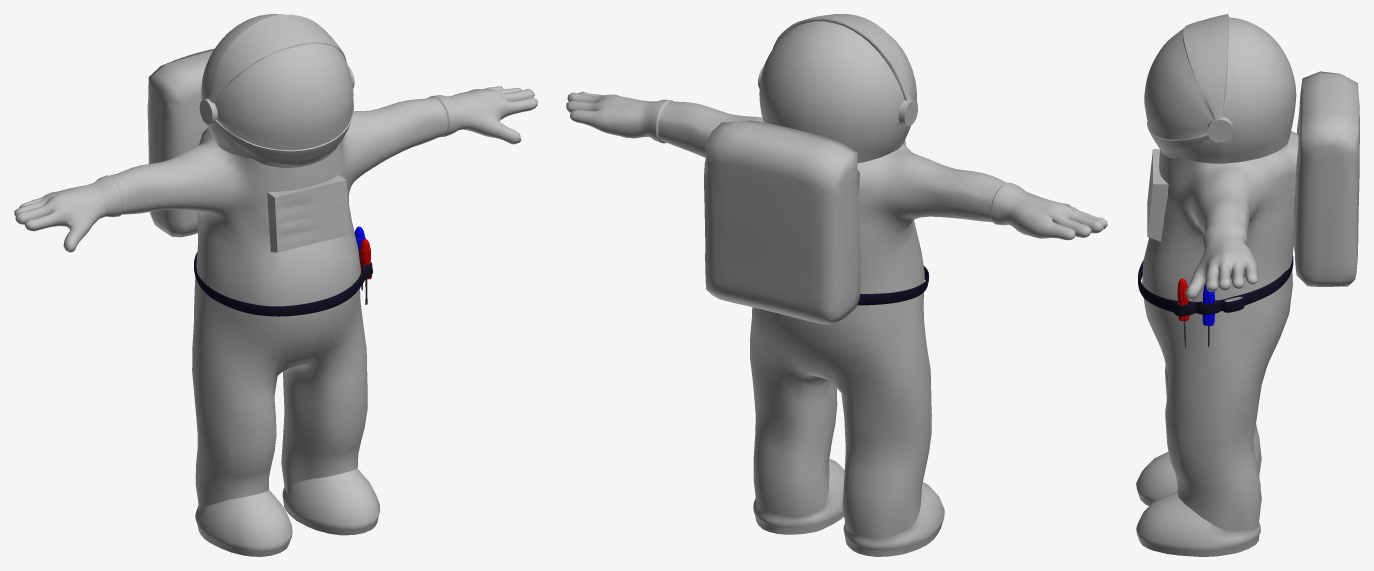
Rendered from BeltAstr0.fbx.
3 renders of one model, left to right at view 1: azimuth 30°, elevation 25°; view 2: azimuth 150°, elevation 25°; view 3: azimuth 270°, elevation 25°, orthographic. The views are drawn at different scales.
Parts seen in each view (by area): view 1: Astr01LowPoly2, Astr01LowPoly11, Astr01LowPoly6, Astr01LowPoly1, Astr01LowPoly5, Astr01LowPoly3, Astr01LowPoly4, Belt; view 2: Astr01LowPoly2, Astr01LowPoly3, Astr01LowPoly1, Astr01LowPoly5, Astr01LowPoly6, Belt; view 3: Astr01LowPoly2, Astr01LowPoly1, Astr01LowPoly3, Astr01LowPoly6, Astr01LowPoly11, Astr01LowPoly5, Belt, Astr01LowPoly4, HandleBlue1, HandleRed1.
Part boxes in pixels (bbox=[...]): Astr01LowPoly2: bbox=[109, 97, 447, 507]; Astr01LowPoly11: bbox=[214, 43, 353, 150]; Astr01LowPoly6: bbox=[195, 468, 380, 556]; Astr01LowPoly1: bbox=[199, 14, 354, 167]; Astr01LowPoly5: bbox=[14, 86, 537, 252]; Astr01LowPoly3: bbox=[147, 48, 214, 237]; Astr01LowPoly4: bbox=[267, 175, 349, 252]; Belt: bbox=[194, 250, 372, 316]; Astr01LowPoly2: bbox=[658, 101, 1007, 537]; Astr01LowPoly3: bbox=[704, 120, 860, 324]; Astr01LowPoly1: bbox=[758, 14, 917, 163]; Astr01LowPoly5: bbox=[566, 91, 1107, 240]; Astr01LowPoly6: bbox=[753, 459, 944, 556]; Belt: bbox=[857, 266, 929, 305]; Astr01LowPoly2: bbox=[1142, 131, 1298, 531]; Astr01LowPoly1: bbox=[1147, 14, 1296, 163]; Astr01LowPoly3: bbox=[1292, 71, 1359, 286]; Astr01LowPoly6: bbox=[1136, 451, 1260, 556]; Astr01LowPoly11: bbox=[1144, 28, 1213, 139]; Astr01LowPoly5: bbox=[1185, 221, 1257, 299]; Belt: bbox=[1138, 255, 1293, 316]; Astr01LowPoly4: bbox=[1147, 149, 1168, 241]; HandleBlue1: bbox=[1202, 284, 1214, 325]; HandleRed1: bbox=[1177, 278, 1189, 320].
Size of the model in its own units: 7.93 by 7.28 by 2.96.
